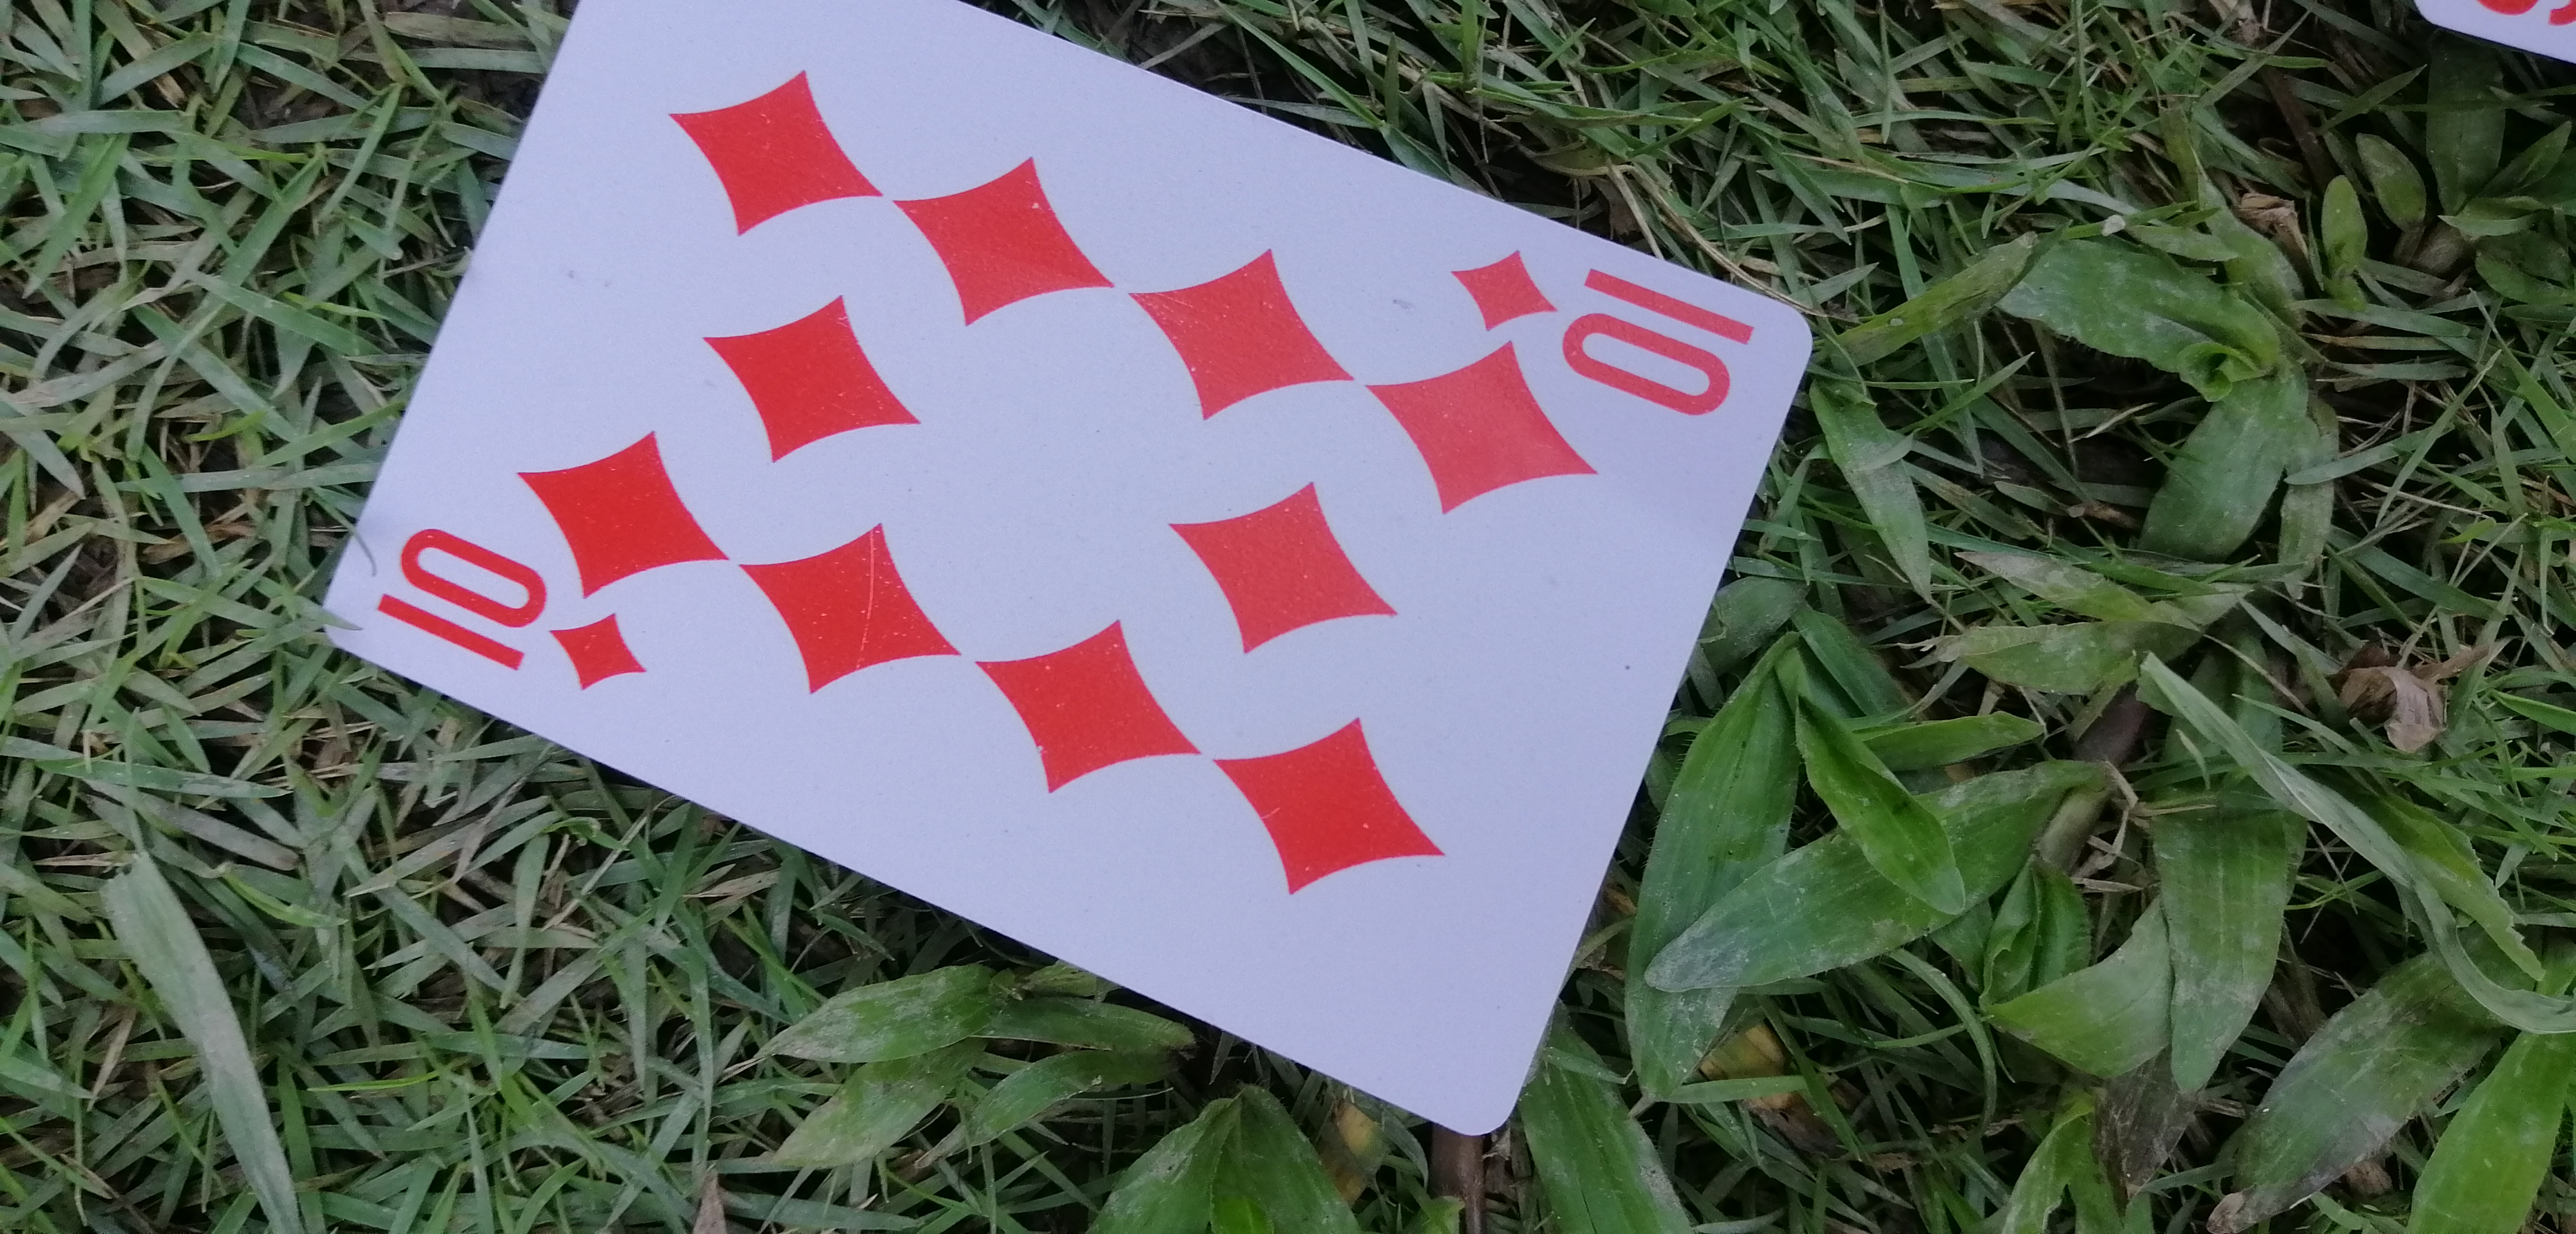ten: (304, 15, 1804, 1153)
